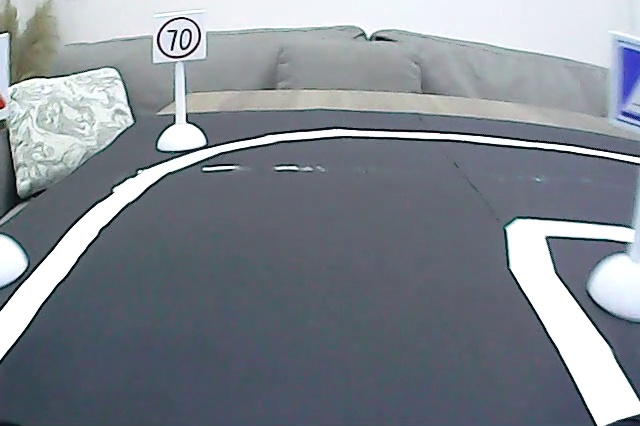speed limit 70: (156, 15, 203, 61)
